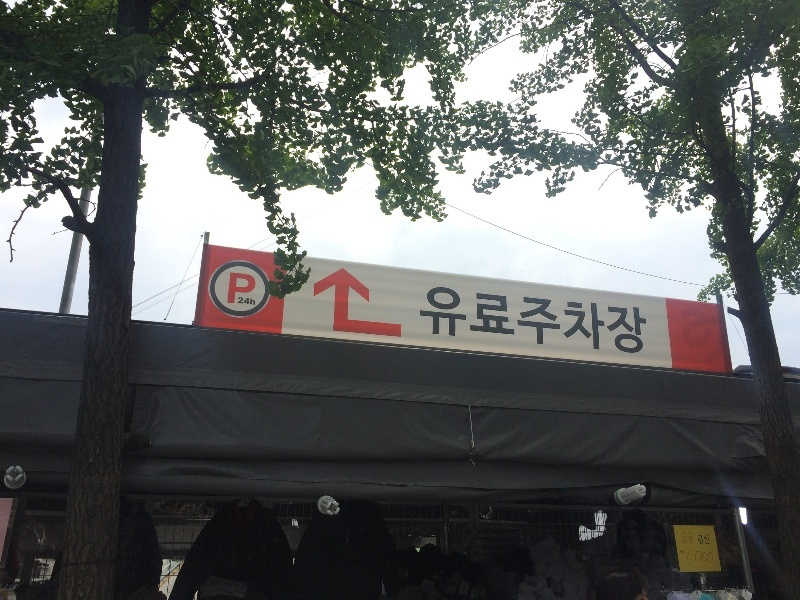text: (433, 285, 448, 357), (449, 285, 464, 357), (465, 285, 480, 357), (481, 285, 496, 357), (497, 285, 512, 357), (513, 285, 528, 357), (529, 285, 544, 357), (545, 285, 560, 357), (561, 285, 576, 357), (577, 285, 592, 357), (593, 285, 608, 357), (609, 285, 624, 357), (625, 285, 640, 357), (422, 285, 432, 357), (641, 285, 650, 357), (241, 272, 257, 305), (231, 272, 240, 305), (689, 550, 704, 563), (241, 297, 257, 306), (705, 550, 715, 563), (682, 532, 688, 544), (698, 534, 704, 546), (705, 534, 711, 546), (689, 532, 693, 544), (239, 297, 240, 306)
